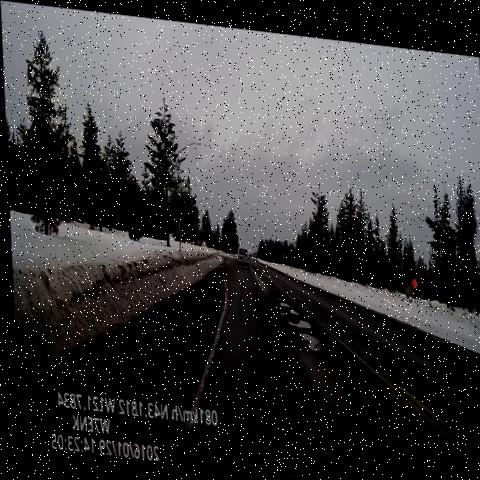pothole: (259, 276, 326, 360)
